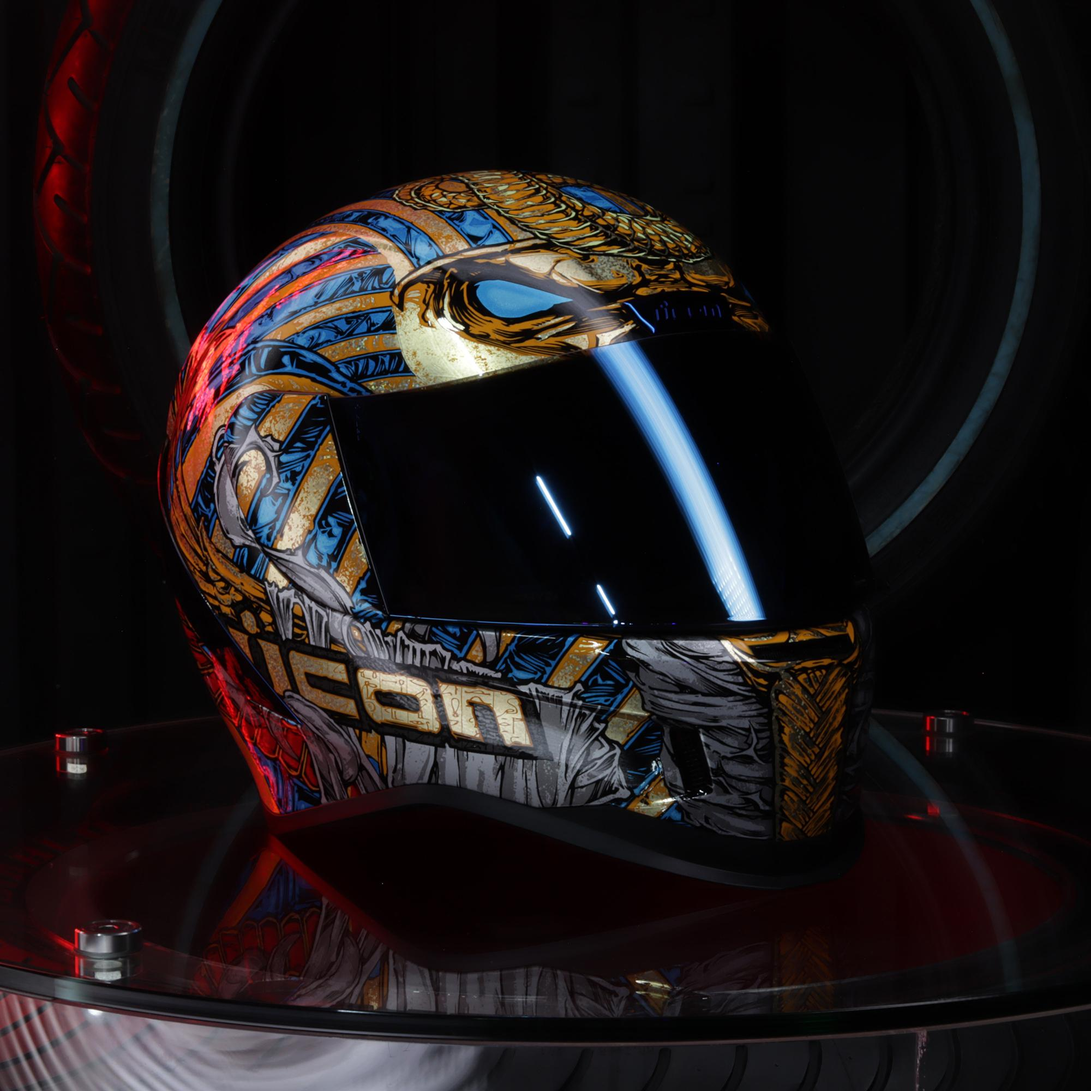helmet: (148, 164, 889, 896)
